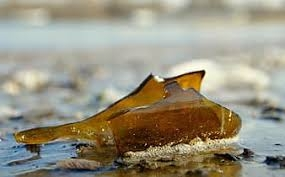glass: (10, 64, 245, 170)
